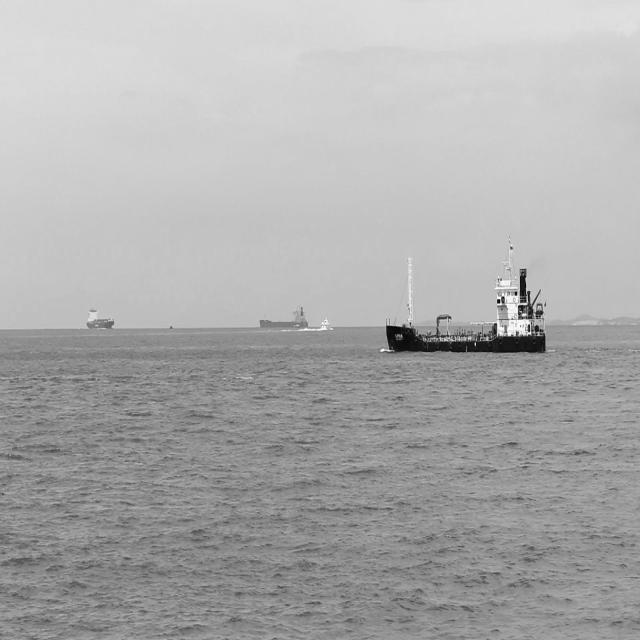ship: (382, 232, 548, 356), (259, 299, 310, 333), (84, 301, 116, 329), (318, 312, 332, 332)
